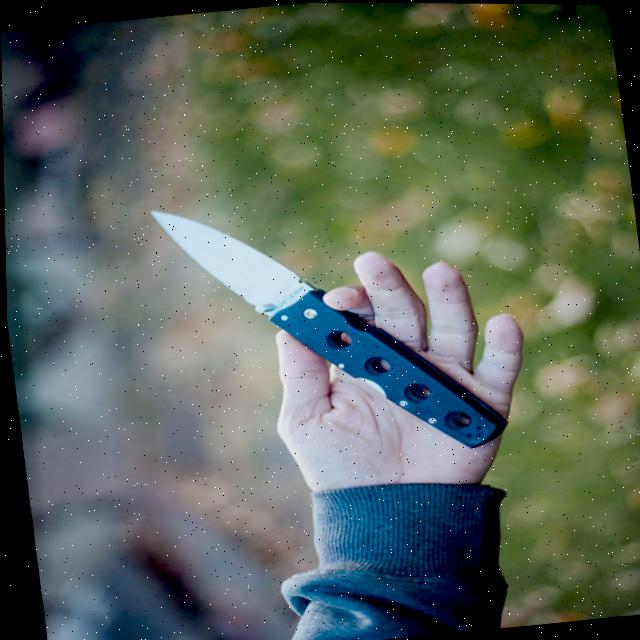knife: (144, 174, 505, 478)
